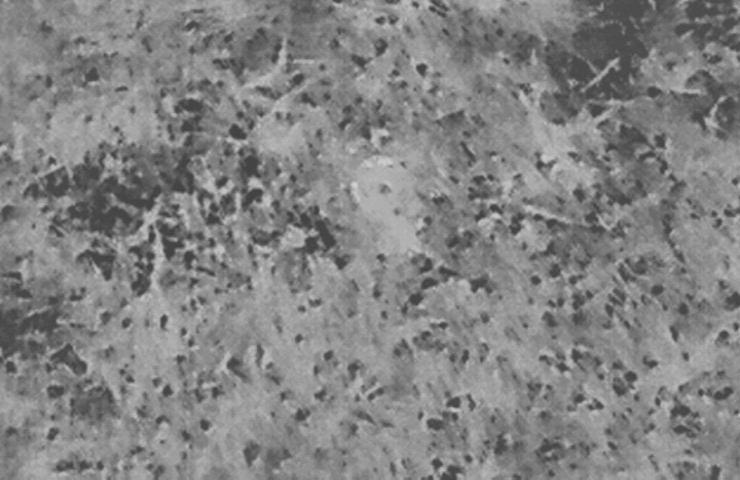landmines: (349, 151, 420, 219)
